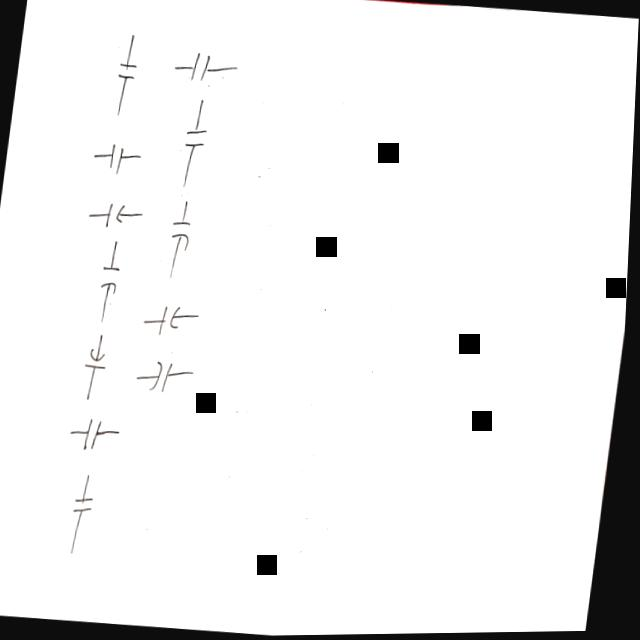capacitor: (103, 49, 151, 90), (157, 288, 192, 340), (149, 349, 181, 401), (184, 44, 220, 88), (96, 189, 132, 232), (97, 256, 129, 302), (181, 115, 214, 157), (167, 213, 200, 254), (84, 339, 115, 382), (104, 135, 131, 181), (67, 492, 104, 525), (84, 408, 109, 456)
